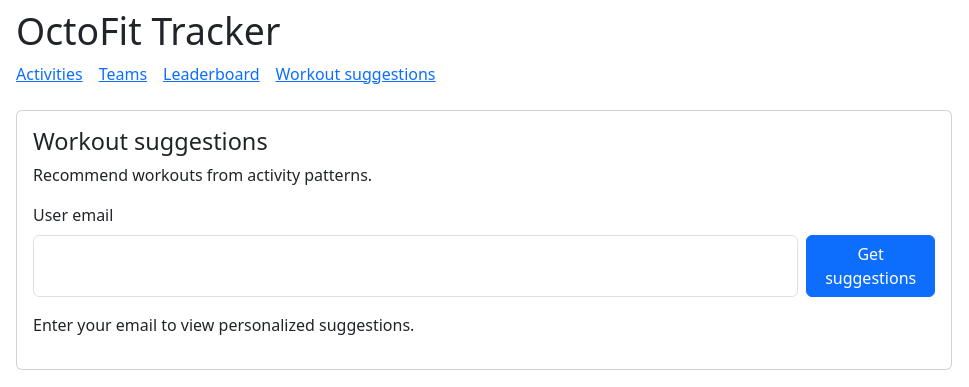
Test: OctoFit presentation contract › /workouts › announces API failures as an accessible alert
Type "mona@example.com" into the field labelled "User email". click: (416, 266)
box: [33,235,798,297]
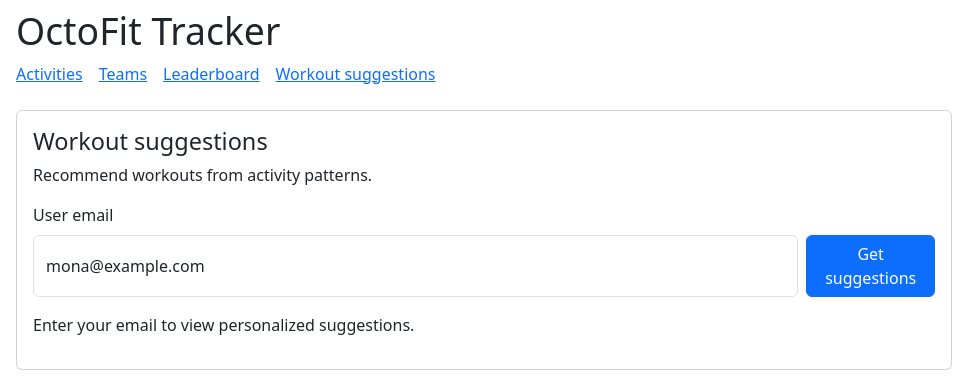
Click the button "Get suggestions". click: (871, 266)
box: [806,235,935,297]
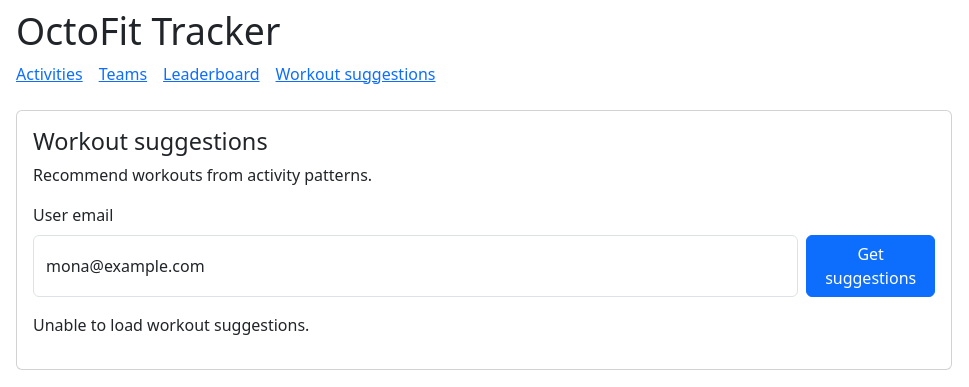
Now the message reads "Unable to load workout suggestions.", box [33,314,309,336]
